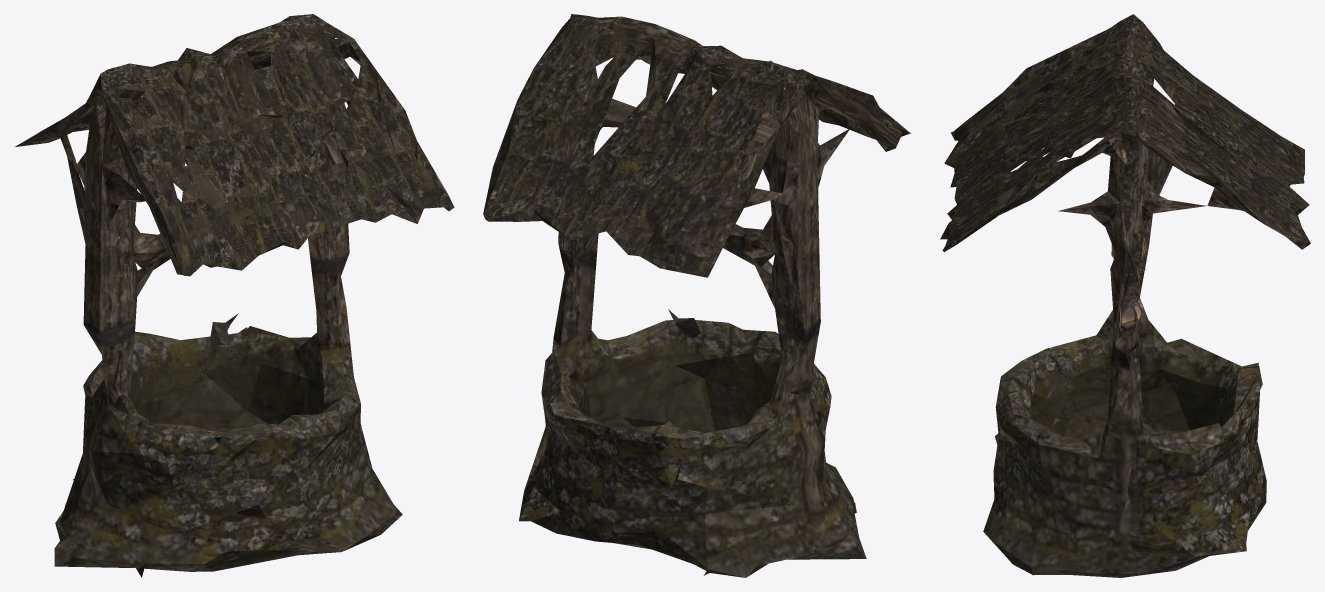
Rendered from world-stonewell.glb.
3 views of the same model, side by side, from view 1: azimuth 30°, elevation 25°; view 2: azimuth 150°, elevation 25°; view 3: azimuth 270°, elevation 25° (orthographic). The views are drawn at different scales.
Parts seen in each view (by area): view 1: output_unwrapped; view 2: output_unwrapped; view 3: output_unwrapped.
Boxes of the visible parts, x1,y1,x2,y2 form: output_unwrapped: (15, 14, 454, 577); output_unwrapped: (483, 14, 910, 577); output_unwrapped: (940, 14, 1310, 577).
Bounding box in the file's own units: 1.93 × 2.6 × 1.89.
1 material, 1 textured.
